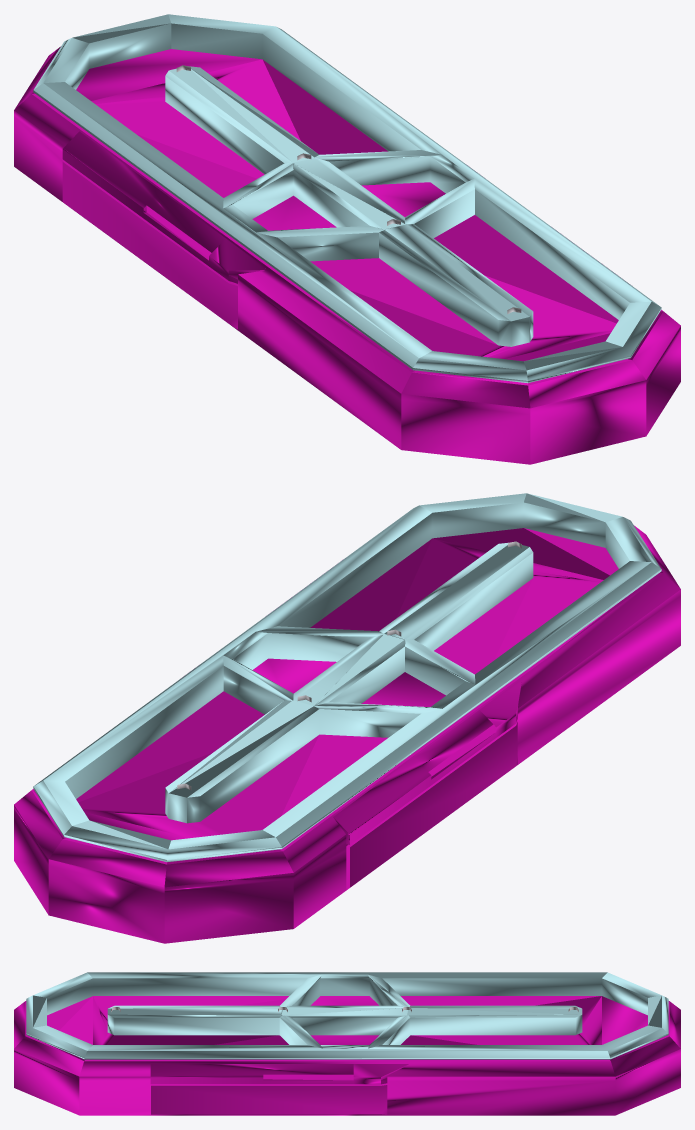
Rendered from fountain_16x06x02_a.glb.
3 renders of one model, top to bottom at view 1: azimuth 30°, elevation 25°; view 2: azimuth 150°, elevation 25°; view 3: azimuth 270°, elevation 25°, orthographic. The views are drawn at different scales.
Bounding box in the file's own units: 5.5 × 1.58 × 16.
